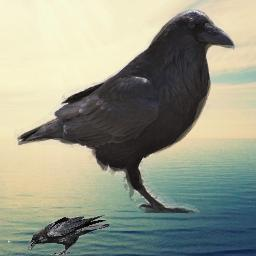Crow: (14, 8, 237, 213), (28, 215, 110, 255)
